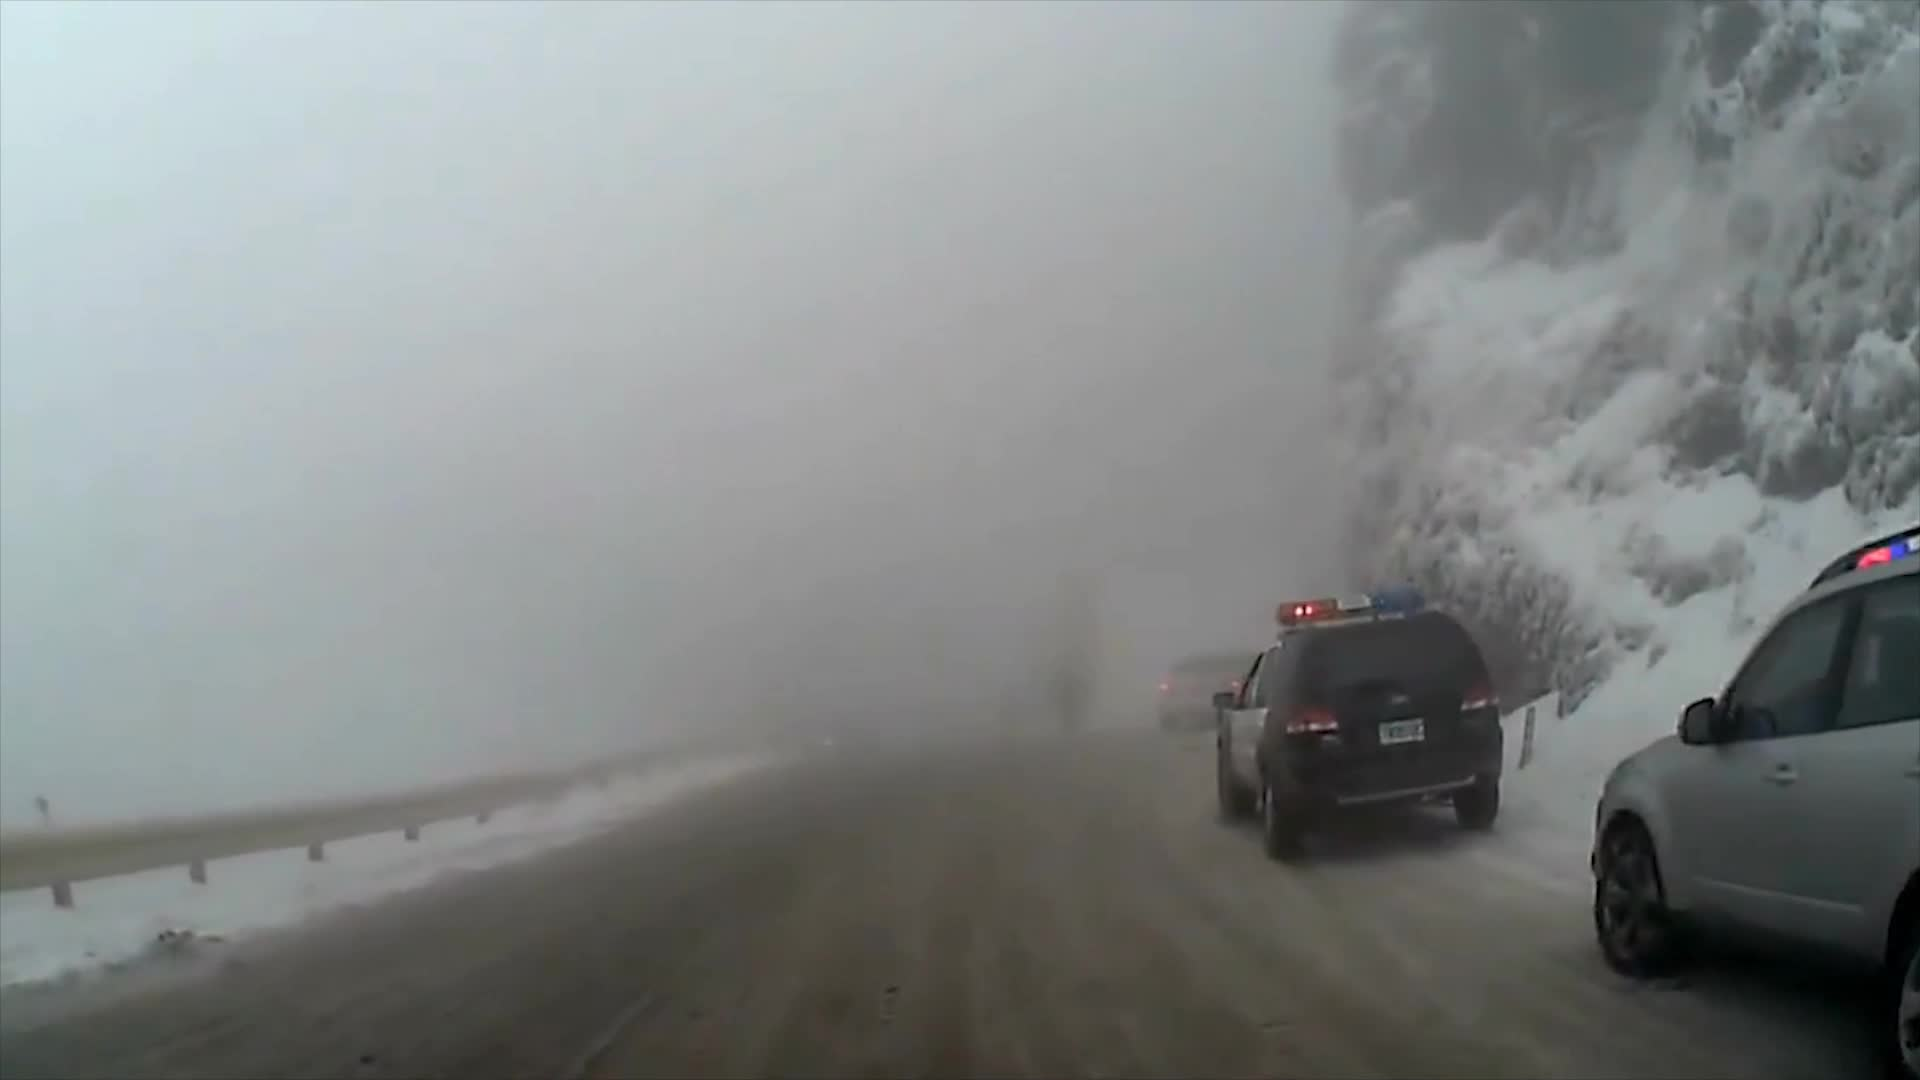vehicle: (1585, 517, 1920, 1077), (1207, 585, 1505, 858)
